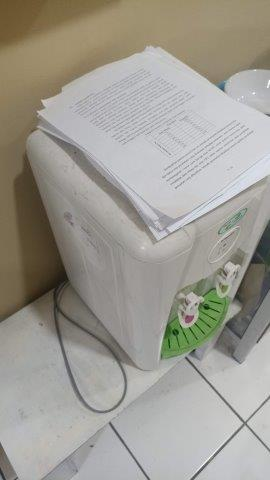kertas: (34, 41, 268, 233)
